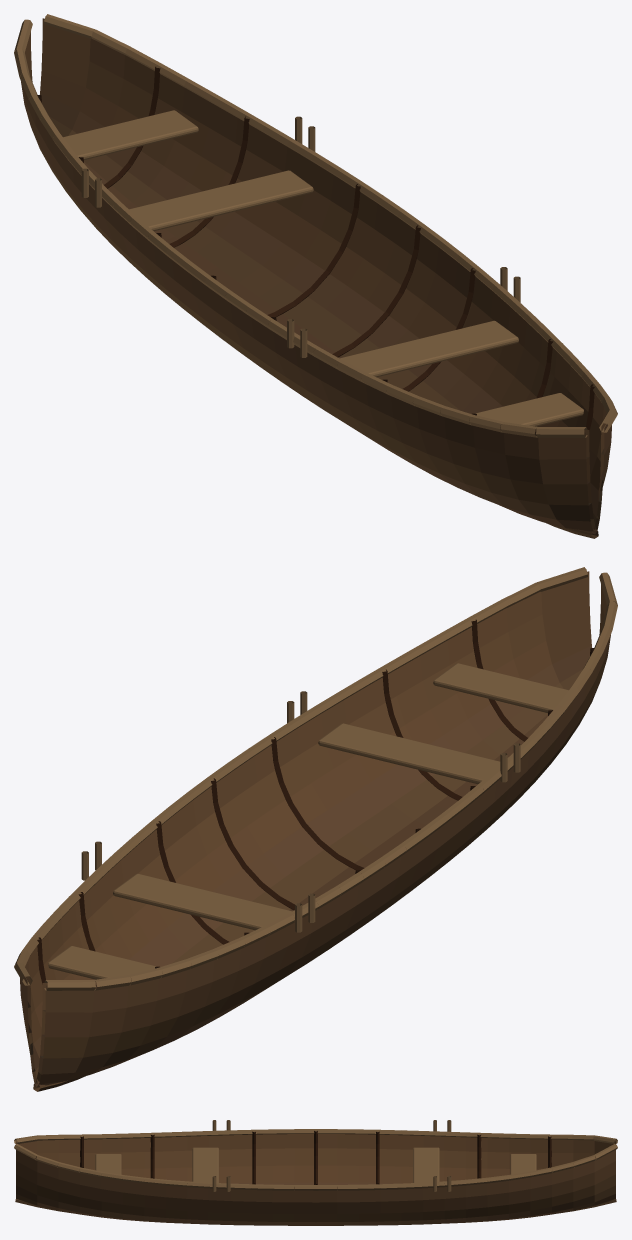
Rendered from faering.glb.
3 views of the same model, one above another, from view 1: azimuth 30°, elevation 25°; view 2: azimuth 150°, elevation 25°; view 3: azimuth 270°, elevation 25° (orthographic). The views are drawn at different scales.
Visible parts, largest first — view 1: faering; view 2: faering; view 3: faering.
Part boxes in pixels (x1=…): faering: x1=14, y1=14, x2=617, y2=538; faering: x1=14, y1=567, x2=617, y2=1091; faering: x1=14, y1=1120, x2=617, y2=1225.
Size of the model in its own units: 1.57 by 1 by 6.84.
